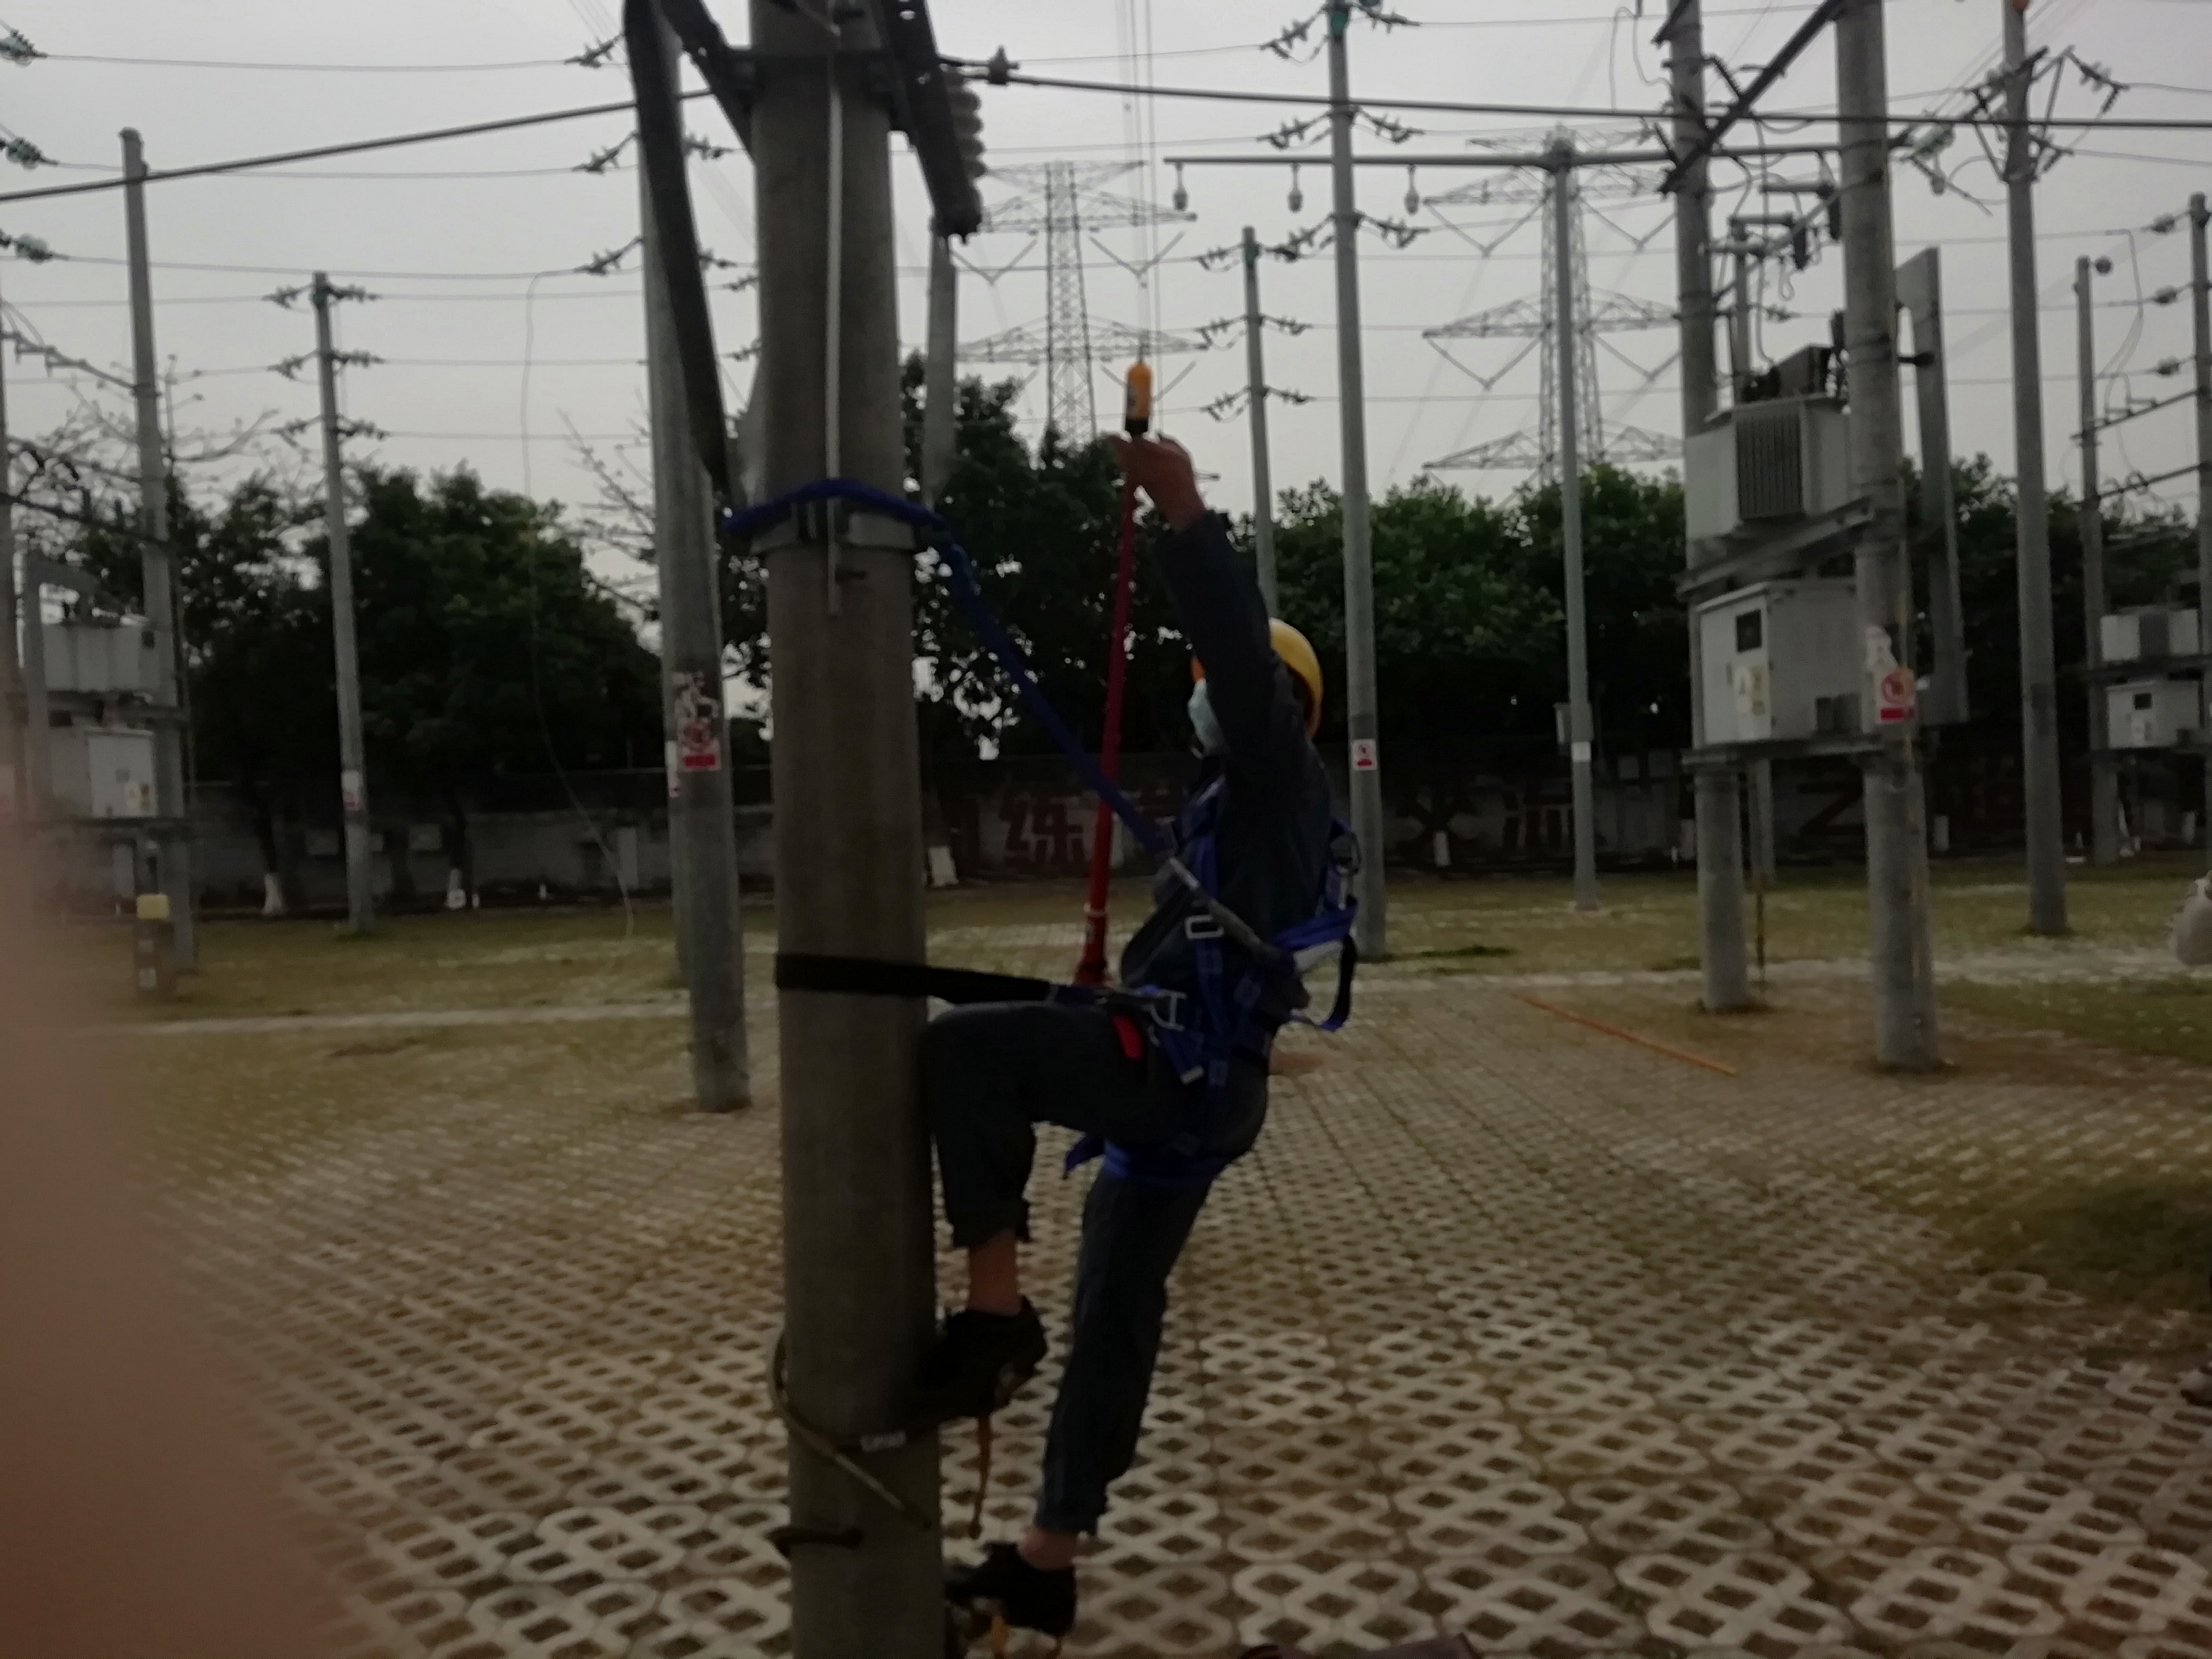downsuit: (935, 994, 1266, 1536)
hand: (1122, 431, 1206, 519)
person: (929, 580, 1355, 1621)
safebelt: (723, 451, 1368, 1224)
testrod: (1076, 336, 1155, 987)
upsuit: (1115, 571, 1351, 988)
